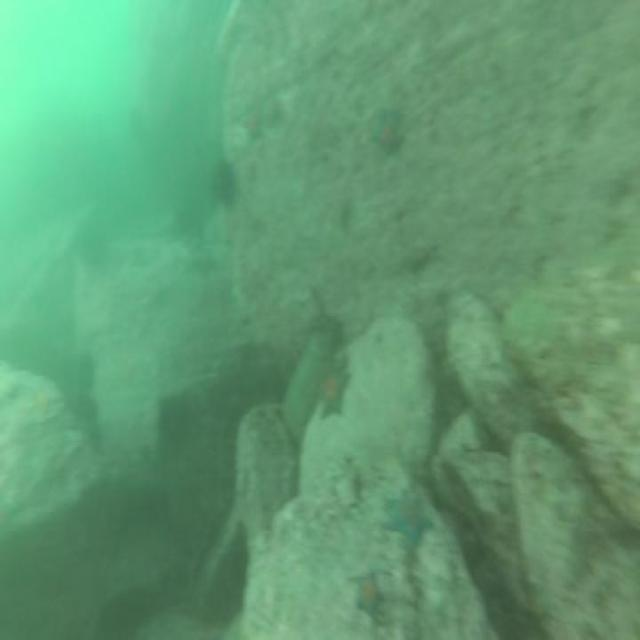echinus: (152, 392, 196, 460), (76, 221, 112, 272), (210, 156, 240, 212), (71, 344, 101, 396), (170, 202, 204, 244)
starfish: (381, 488, 438, 555), (369, 98, 407, 163), (348, 566, 388, 626), (313, 364, 352, 424), (22, 380, 64, 420), (236, 103, 266, 147)
